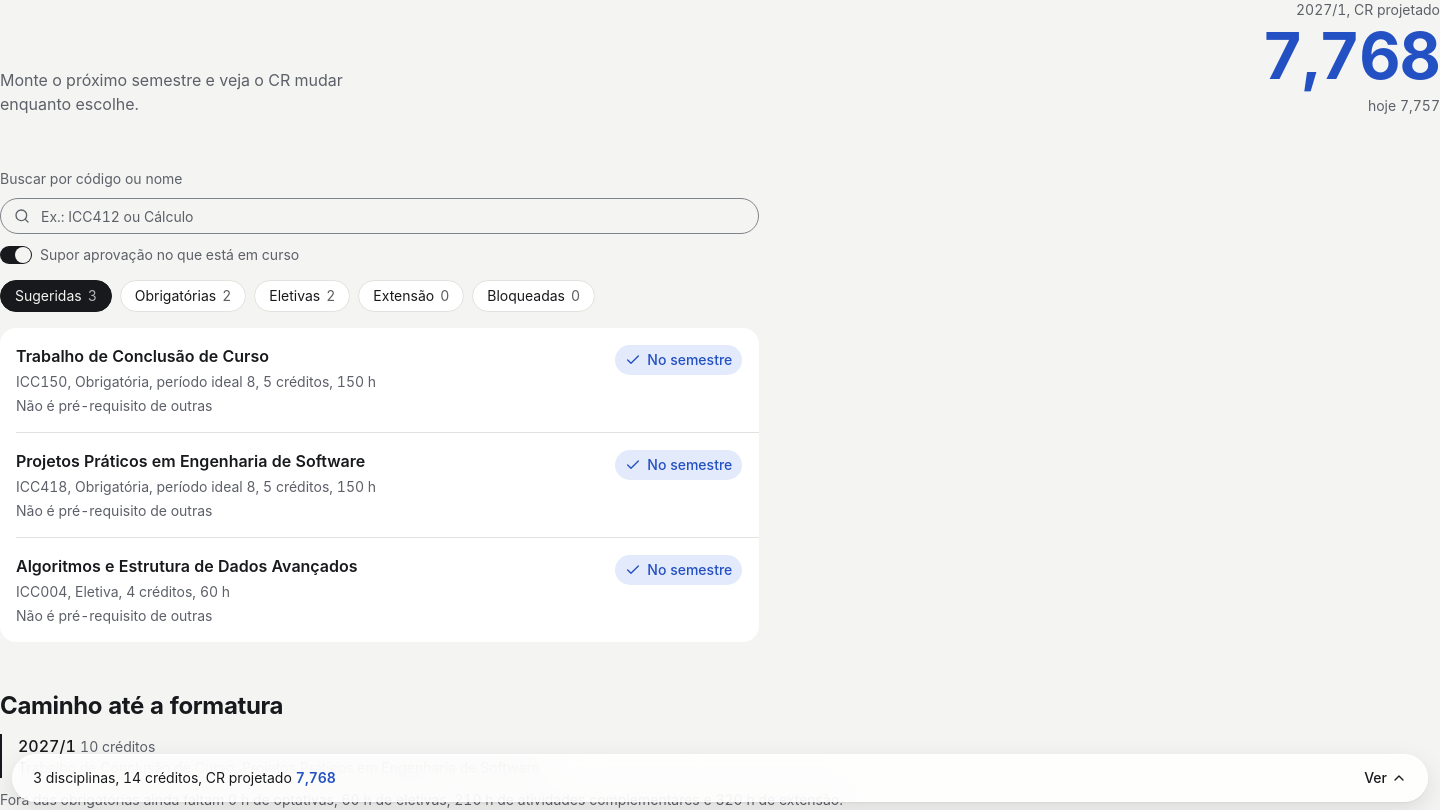
Test: PlanningScreen › unmounts the sheet and releases the drag when the layout switches to desktop
The image size is (1440, 810).
Click the button "3 disciplinas, 14 créditos, CR projetado 7,768 Ver". click: (116, 778)
box: 12,754 -> 1428,802
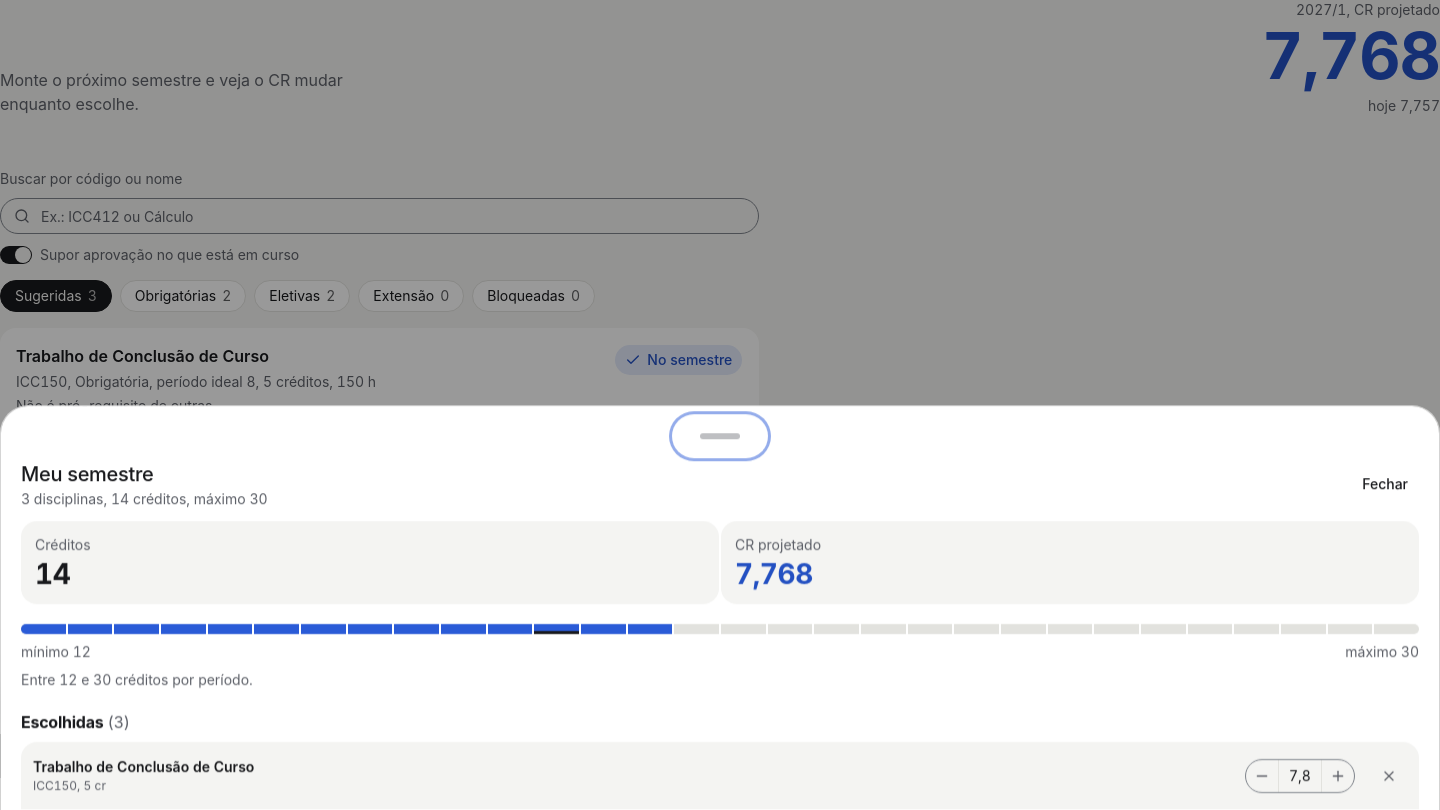
Press the mouse on the element showing "Meu semestre 3 disciplinas, 14 créditos, máximo 30 Fechar" at (720, 464), box 1,406 -> 1439,521
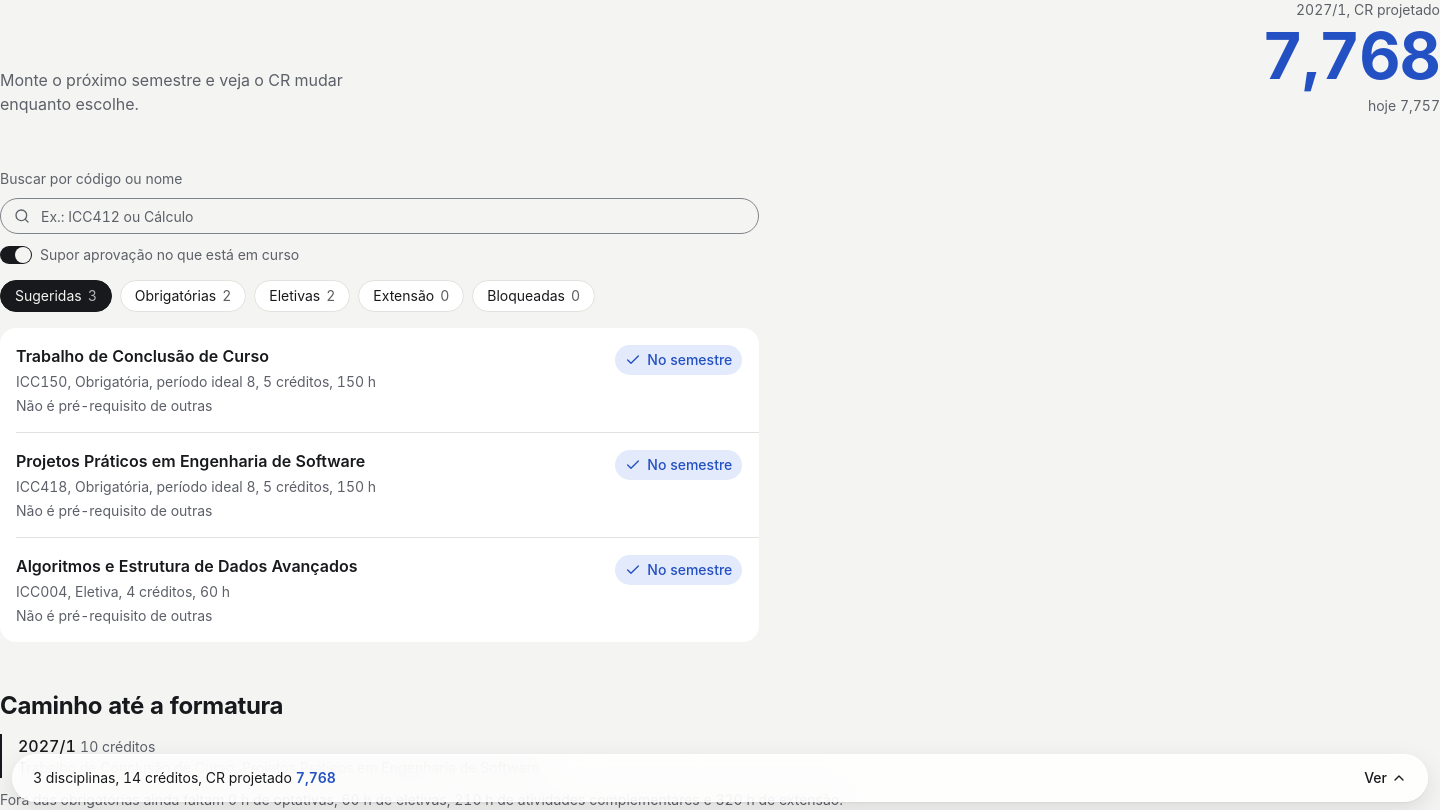
Expected: the button "3 disciplinas, 14 créditos, CR projetado 7,768 Ver" is shown, 12,754 -> 1428,802
Expected: the heading "Meu semestre" is gone
